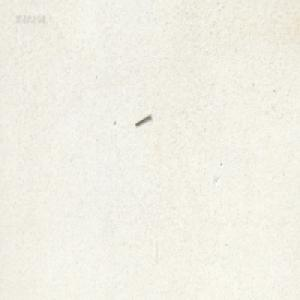Bolt: (134, 112, 151, 127)
